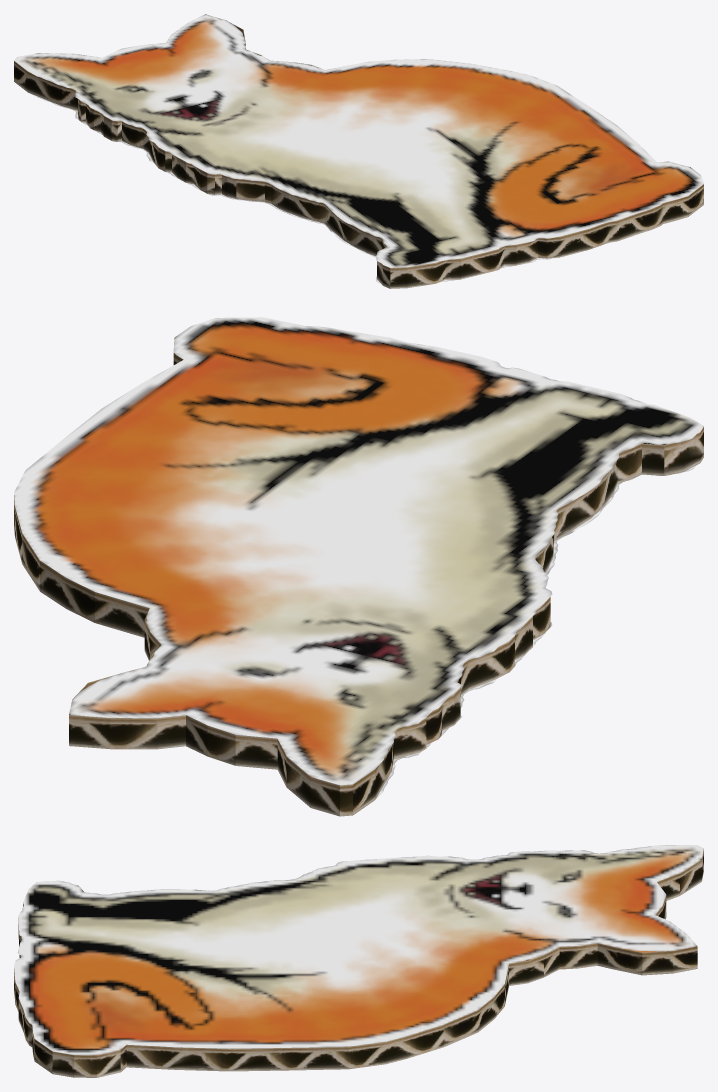
The model's file is catSound.fbx.
3 views of the same model, one above another, from view 1: azimuth 30°, elevation 25°; view 2: azimuth 150°, elevation 25°; view 3: azimuth 270°, elevation 25° (orthographic). The views are drawn at different scales.
Visible parts, largest first — view 1: Plane; view 2: Plane; view 3: Plane.
Part boxes in pixels (bbox=[...]): Plane: bbox=[14, 14, 703, 288]; Plane: bbox=[14, 317, 703, 816]; Plane: bbox=[14, 845, 703, 1077].
Bounding box in the file's own units: 0.9967 × 0.05 × 1.38.
